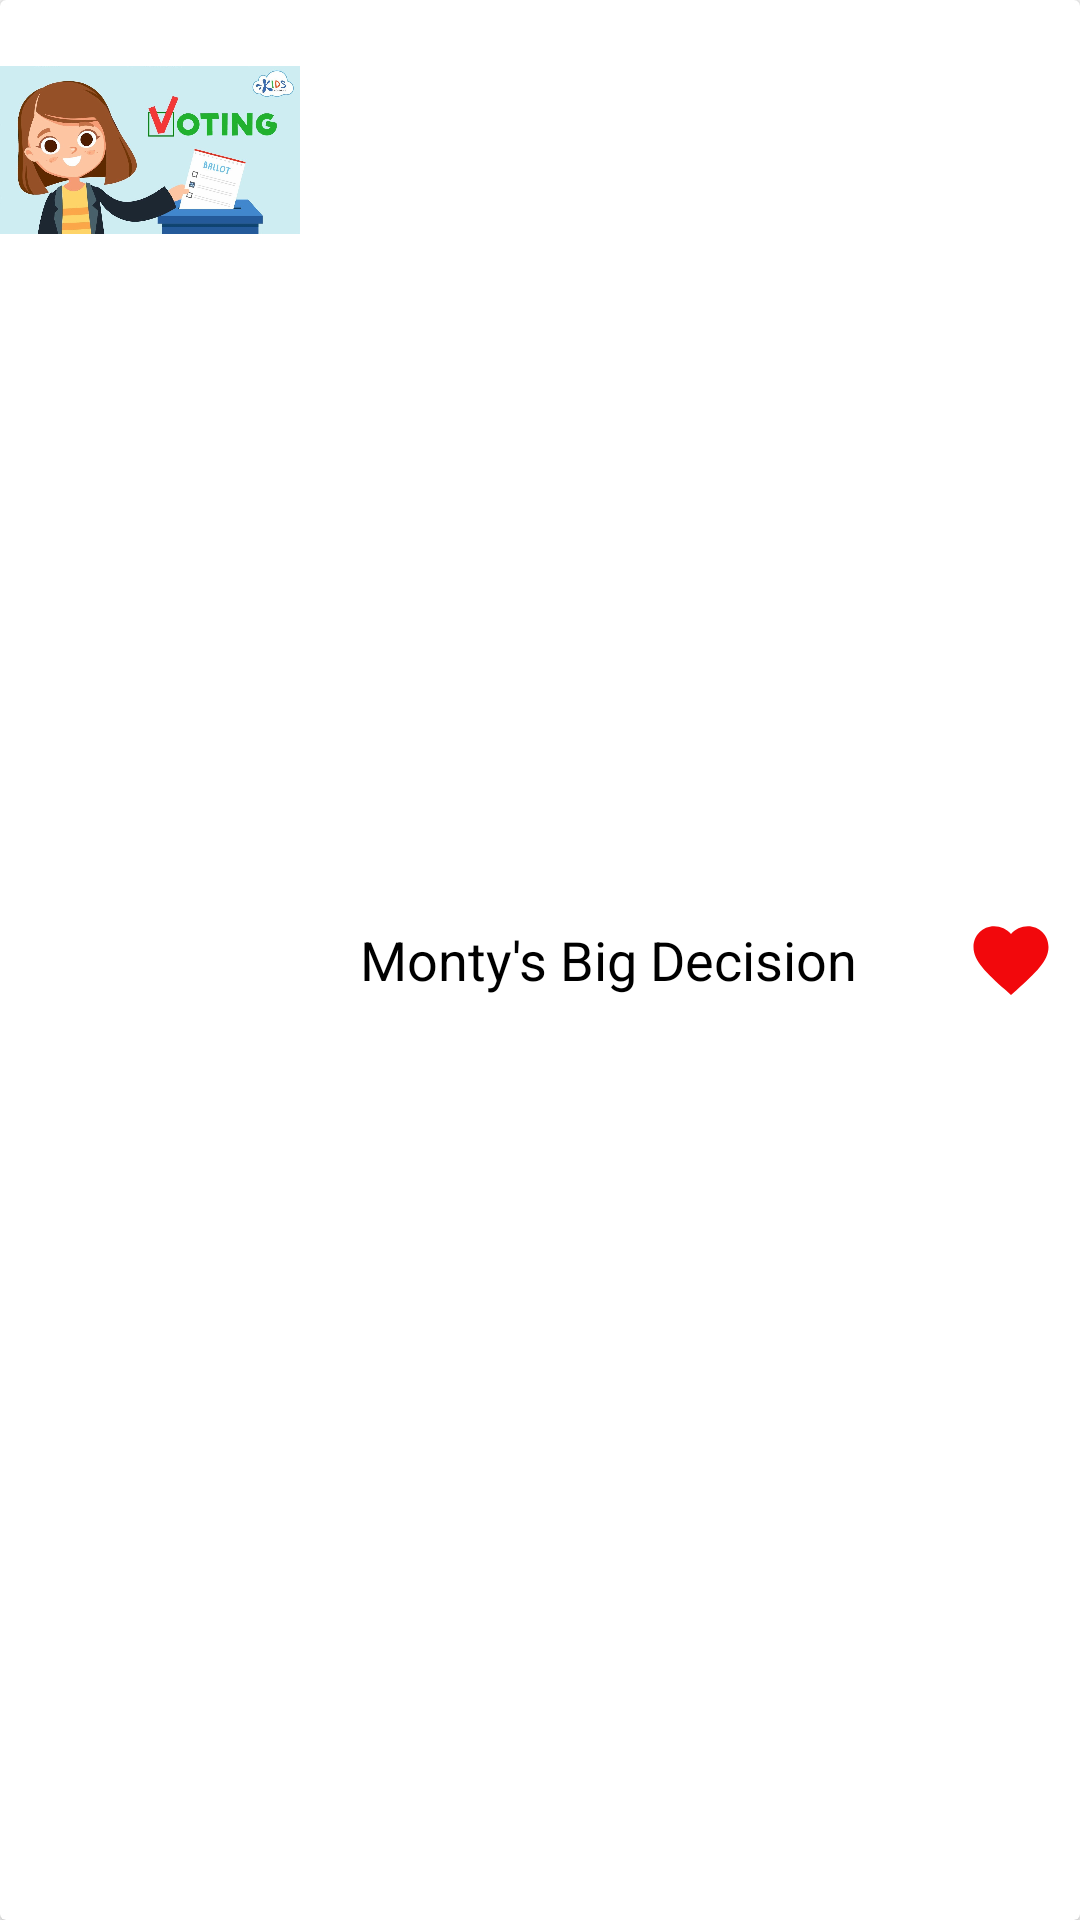

Named icons in this screenshot (1080w x 1920h) and their bounding boxes, (x1, y1, x2, y2):
favorite: (973, 926, 1049, 995)
